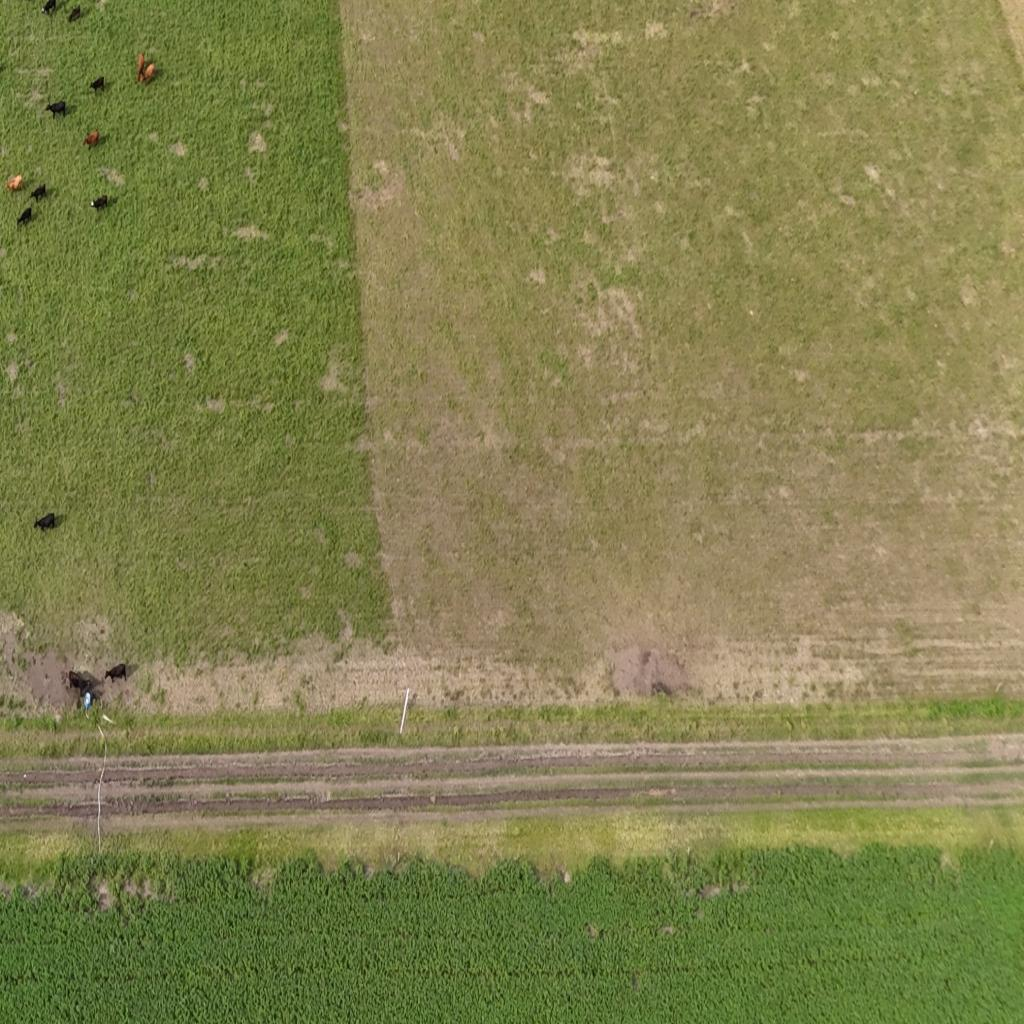cow: (68, 670, 97, 694), (33, 512, 56, 532), (104, 664, 126, 682), (46, 100, 67, 118), (16, 206, 33, 228), (140, 62, 156, 84), (5, 174, 23, 192), (30, 184, 46, 203), (83, 131, 99, 149), (90, 196, 108, 212), (89, 76, 105, 93), (41, 0, 57, 17), (137, 52, 145, 83), (68, 4, 81, 22)
